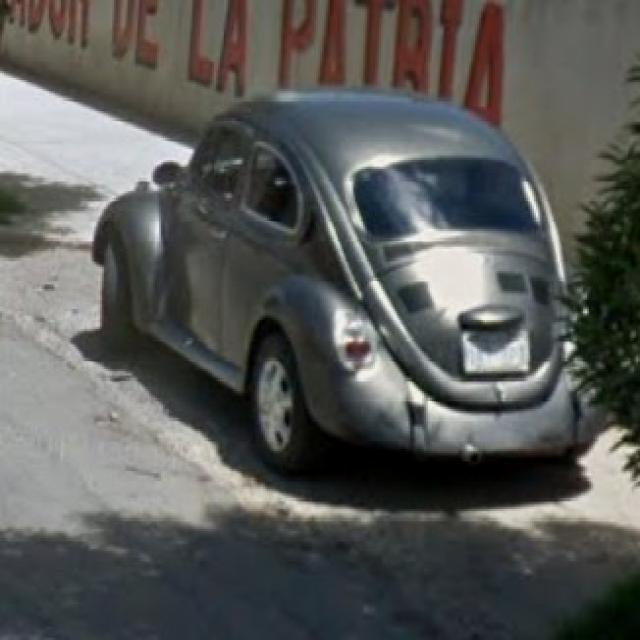car: (86, 94, 602, 465)
